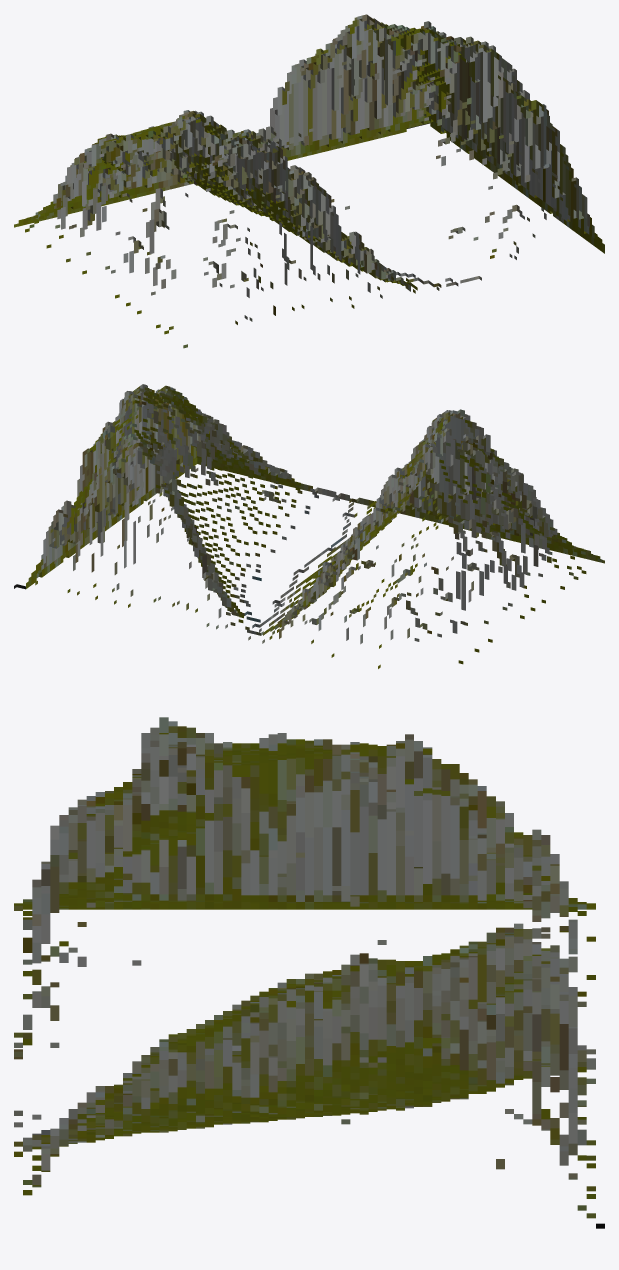
The model's file is terrain.preview.glb.
3 renders of one model, top to bottom at view 1: azimuth 30°, elevation 25°; view 2: azimuth 150°, elevation 25°; view 3: azimuth 270°, elevation 25°, orthographic. The views are drawn at different scales.
Parts seen in each view (by area): view 1: world; view 2: world; view 3: world.
Part boxes in pixels (x1=…): world: x1=14, y1=14, x2=604, y2=348; world: x1=14, y1=384, x2=604, y2=668; world: x1=14, y1=717, x2=604, y2=1228.
Size of the model in its own units: 1.8 by 0.6625 by 1.3.
